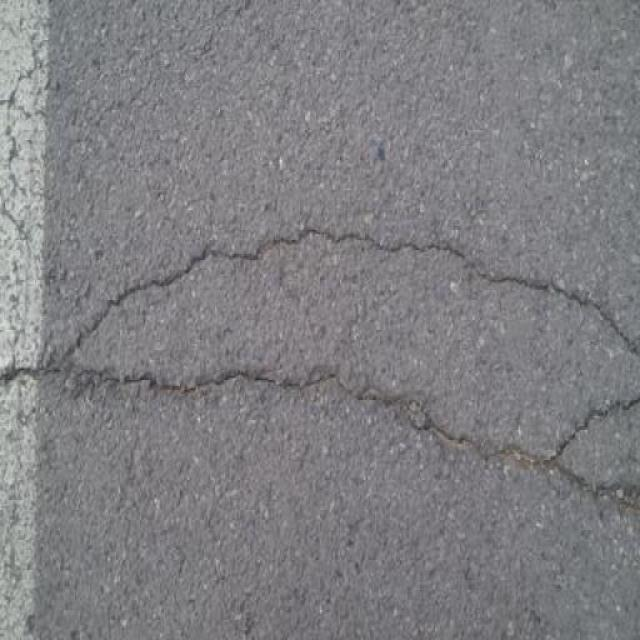Crack: (0, 196, 639, 530)
